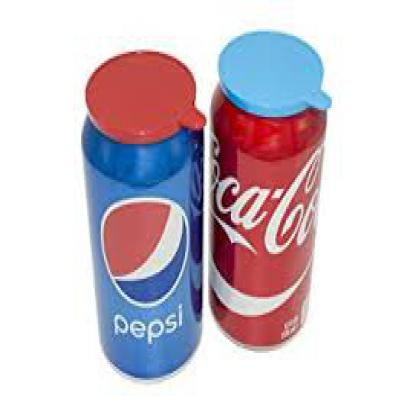Compsot: (82, 110, 204, 380), (208, 70, 324, 348)
